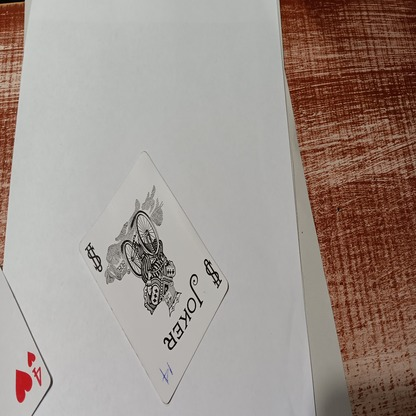4h: (25, 348, 45, 385)
